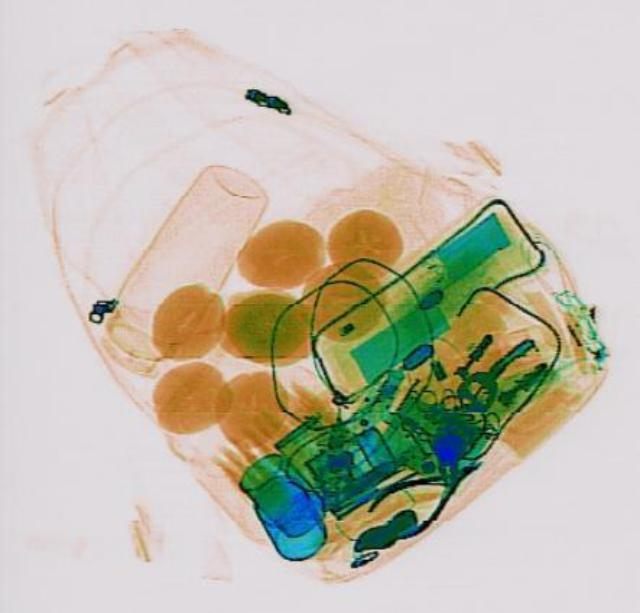Pliers: (358, 436, 500, 547)
